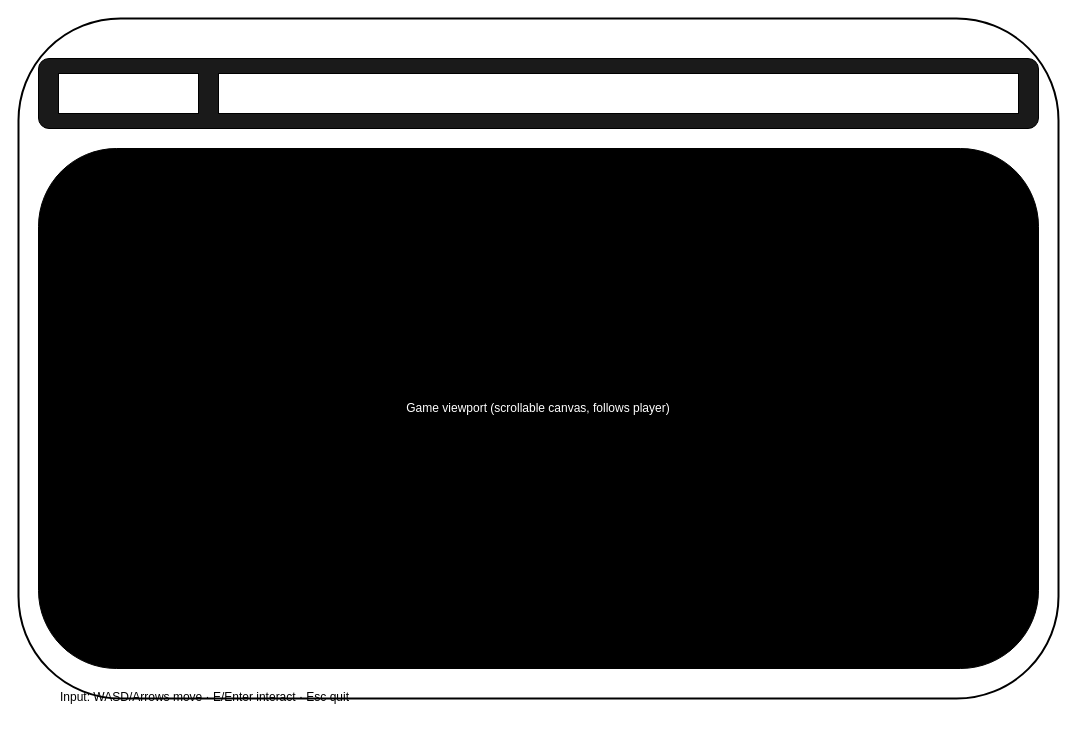
Image size: 1076x730. Some labels were removed from this diagram. Each missing label, with the centre of its shape:
"HUD text: loaded map, player coords, messages" goes at point 618,93.
"Load Map" goes at point 128,93.
